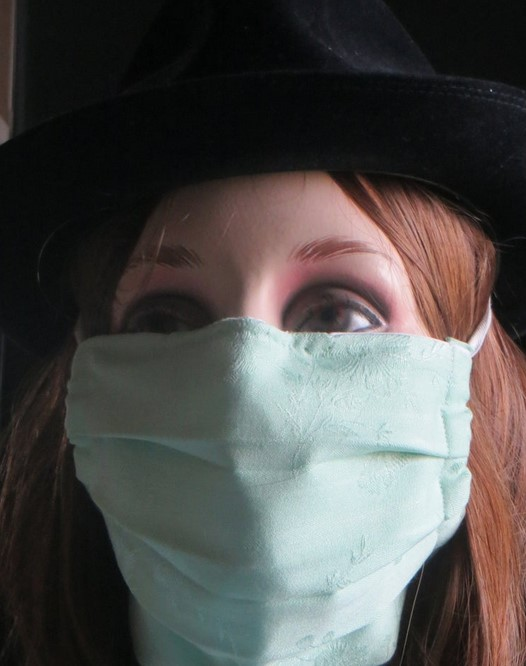face_with_mask: (52, 141, 492, 638)
